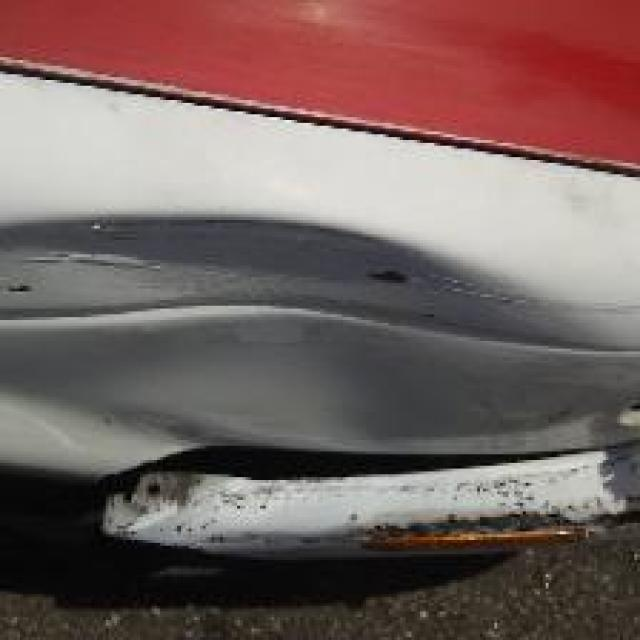damaged: (2, 217, 638, 554)
